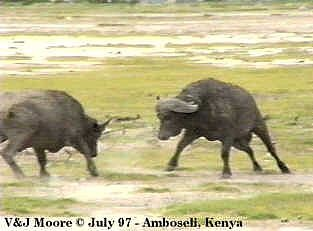buffalo: (154, 77, 291, 179), (1, 87, 113, 179)
